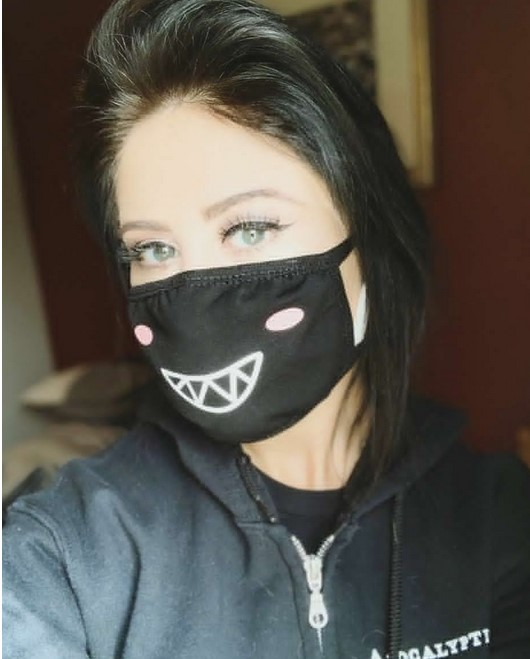face_with_mask: (105, 74, 367, 446)
